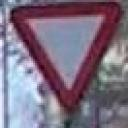preferencia: (7, 2, 123, 114)
